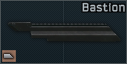AK AKademia Bastion dust cover: (0, 0, 127, 64)
